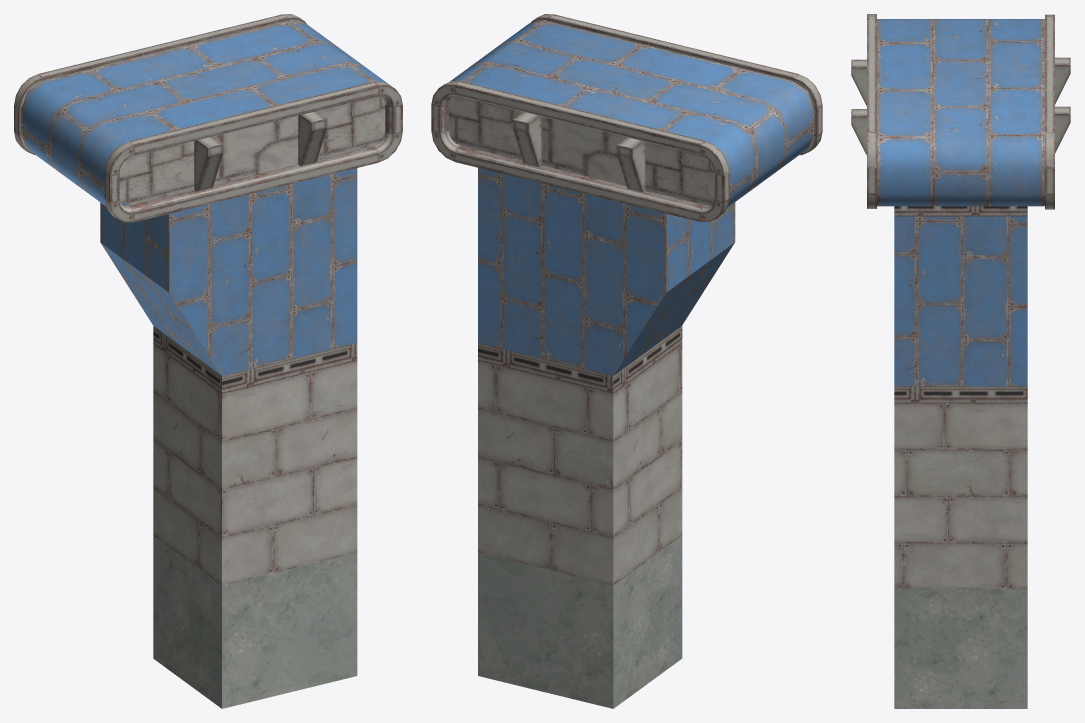
File: Level_01_Backdrop_Building_D.fbx
3 views of the same model, side by side, from view 1: azimuth 30°, elevation 25°; view 2: azimuth 150°, elevation 25°; view 3: azimuth 270°, elevation 25° (orthographic). The views are drawn at different scales.
Visible parts, largest first — view 1: Geometry_Level_01_Backdrop_Building_D; view 2: Geometry_Level_01_Backdrop_Building_D; view 3: Geometry_Level_01_Backdrop_Building_D.
Boxes of the visible parts, left/top/right/bottom form: Geometry_Level_01_Backdrop_Building_D: left=14, top=14, right=402, bottom=708; Geometry_Level_01_Backdrop_Building_D: left=431, top=14, right=822, bottom=708; Geometry_Level_01_Backdrop_Building_D: left=851, top=14, right=1070, bottom=708.
Size of the model in its own units: 1917 by 3730 by 1279.
